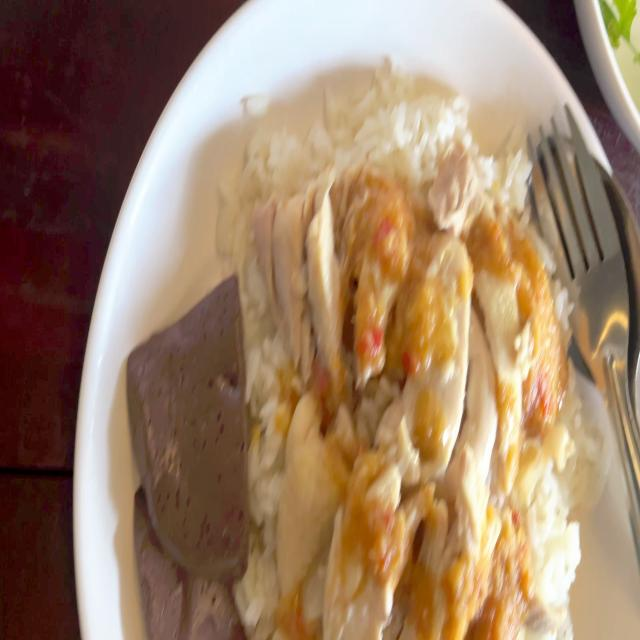boiled_chicken: (247, 174, 544, 640)
boiled_chicken_blood_jelly: (128, 265, 252, 577), (124, 481, 234, 640)
chicken_rice: (120, 73, 579, 640)
